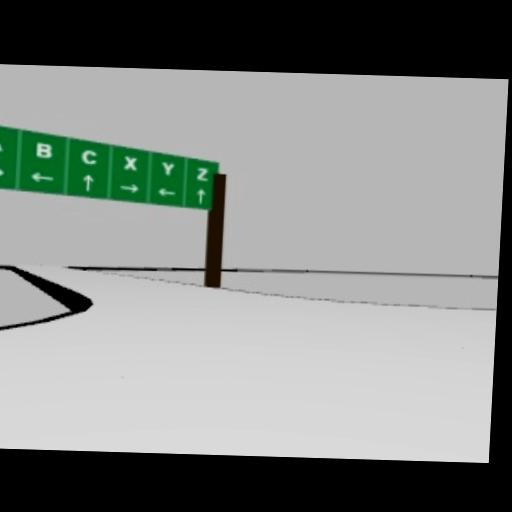A: (0, 133, 5, 151)
B: (35, 141, 54, 160)
C: (80, 148, 98, 166)
Left: (29, 171, 55, 184), (157, 186, 177, 199)
Right: (119, 182, 140, 194), (0, 164, 5, 177)
Straight: (81, 172, 94, 194), (195, 185, 207, 205)
X: (123, 154, 138, 172)
Y: (160, 161, 177, 177)
Z: (194, 166, 210, 183)
